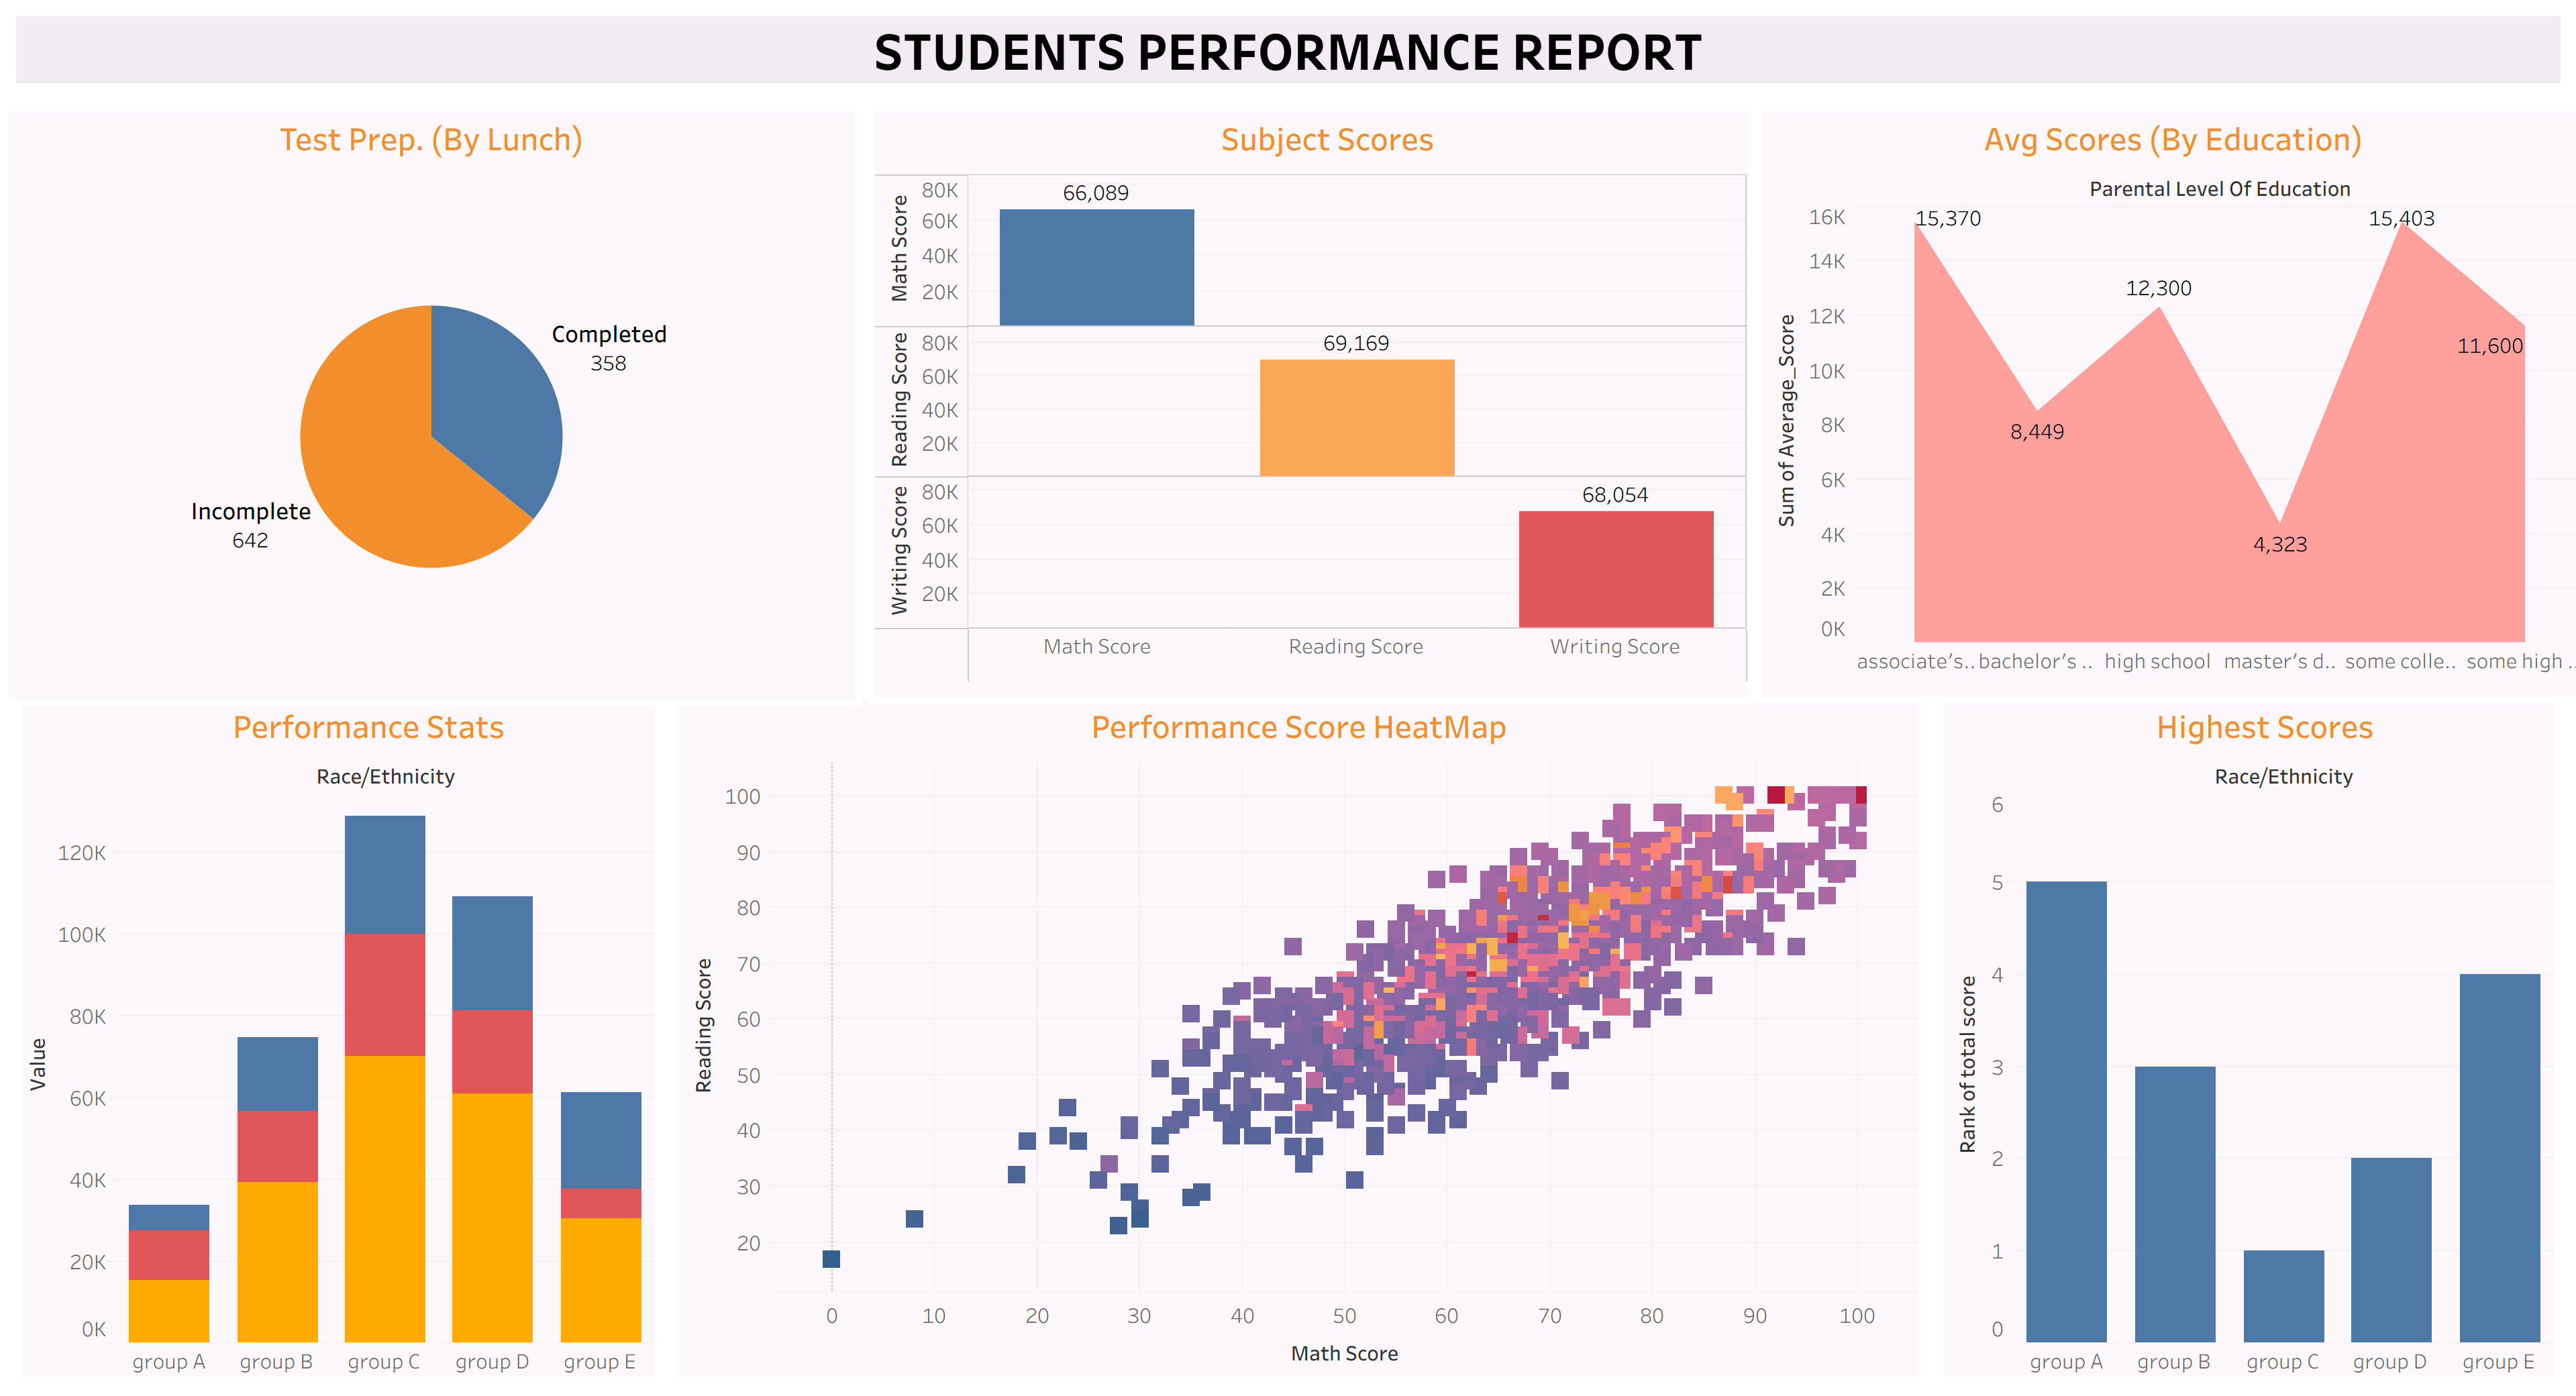

This screenshot's page, from the dashboard's own definition file:
{"tool":"tableau","page":{"name":"Dashboard 1","canvas":[1000,1000],"units":"permille","ordinal":0},"visuals":[{"type":"title","box":[4.2,9.4,991.5,68.1]},{"type":"worksheet","title":"Pie Chat","mark":"Pie","box":[0.6,75.1,333.9,429.6]},{"type":"worksheet","title":"average subject scores","mark":"Bar","rows":["math score","reading score","writing score"],"box":[336.9,75.1,343.9,428.4]},{"type":"worksheet","title":"performance tiers","mark":"Bar","cols":["race/ethnicity"],"box":[4.2,497.8,254.9,492.8]},{"type":"worksheet","title":"heatmap","mark":"Square","rows":["reading score"],"cols":["math score"],"box":[259.1,497.8,490.6,492.8]},{"type":"worksheet","title":"students with highest total scores","mark":"Automatic","rows":["Calculation_1673087315499036672"],"cols":["race/ethnicity"],"box":[749.7,497.8,246.1,492.8]}]}

Visuals, with their boxes on the dashboard's canvas, which has no fixed pixel size, in thousandths of its width and height (x1, y1, x2, y2). These are canvas units, not pixel positions in the 2576x1396 screenshot, which may show the page scaled, cropped or inside an application window:
title: [left=4, top=9, right=996, bottom=78]
"Pie Chat" worksheet (Pie marks): [left=1, top=75, right=334, bottom=505]
"average subject scores" worksheet (Bar marks): [left=337, top=75, right=681, bottom=504]
"performance tiers" worksheet (Bar marks): [left=4, top=498, right=259, bottom=991]
"heatmap" worksheet (Square marks): [left=259, top=498, right=750, bottom=991]
"students with highest total scores" worksheet: [left=750, top=498, right=996, bottom=991]
